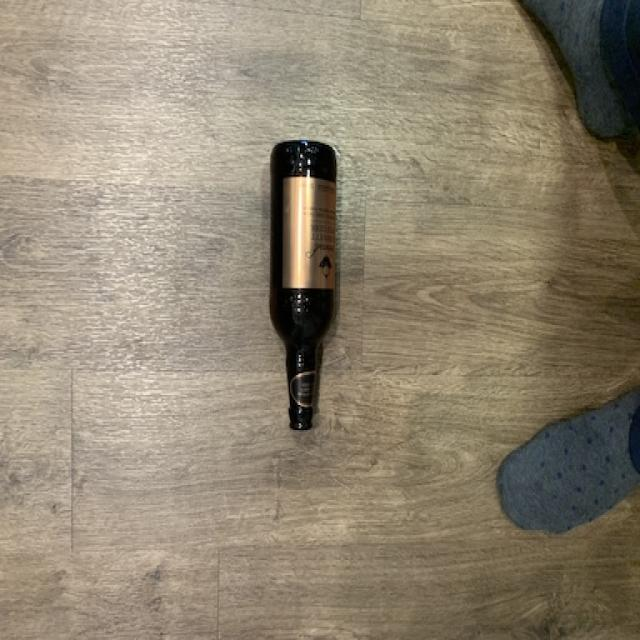litter: (268, 137, 338, 440)
